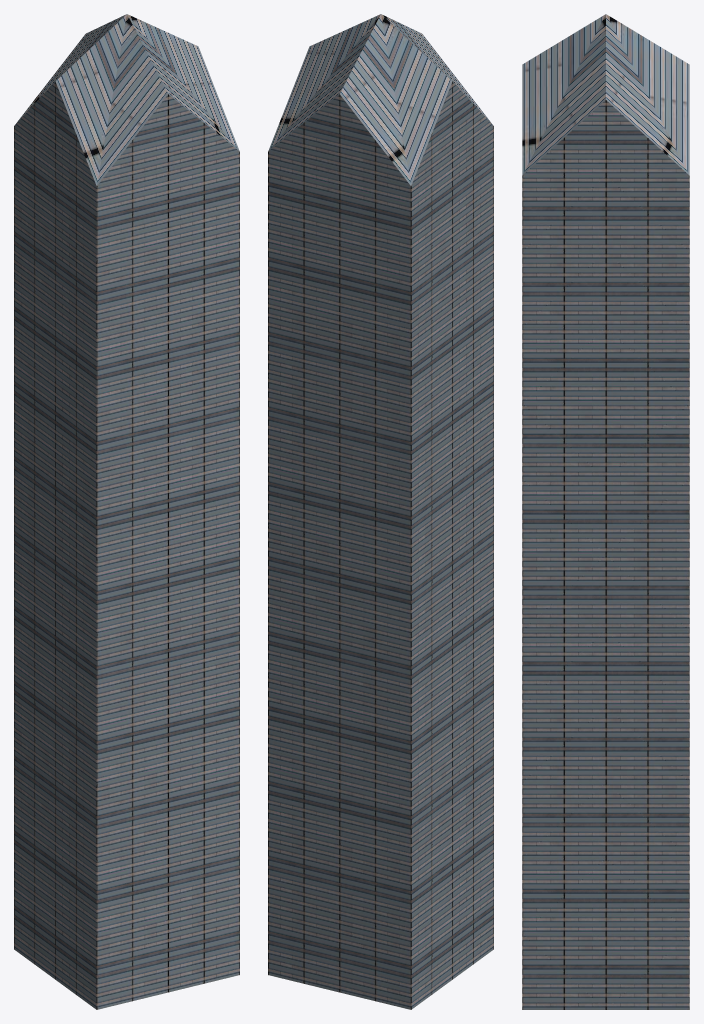
File: building2.glb
3 renders of one model, left to right at view 1: azimuth 30°, elevation 25°; view 2: azimuth 150°, elevation 25°; view 3: azimuth 270°, elevation 25°, orthographic.
Visible parts, largest first — view 1: Building_steepleTop; view 2: Building_steepleTop; view 3: Building_steepleTop.
Part boxes in pixels (x1,y1,x2,y2): Building_steepleTop: (14,14,239,1009); Building_steepleTop: (268,14,493,1009); Building_steepleTop: (522,14,689,1009).
Size of the model in its own units: 30 by 190 by 30.
Materials: 1 (1 with a texture image).
